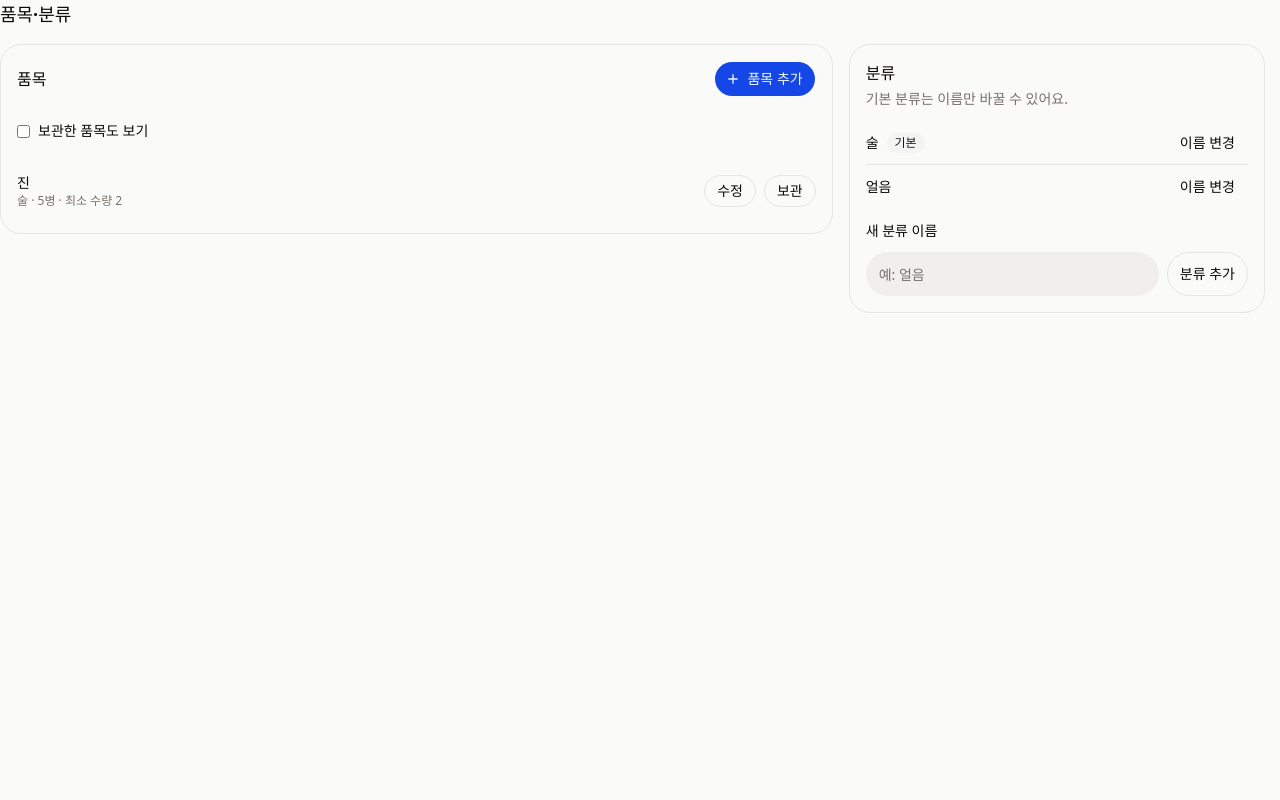
Test: ItemsManagementPage › opens the add item sheet
The image size is (1280, 800).
expect the text "진" is shown: met, box [17,173,30,193]
Click the button "품목 추가" at (765, 79), box [714,61,816,97]
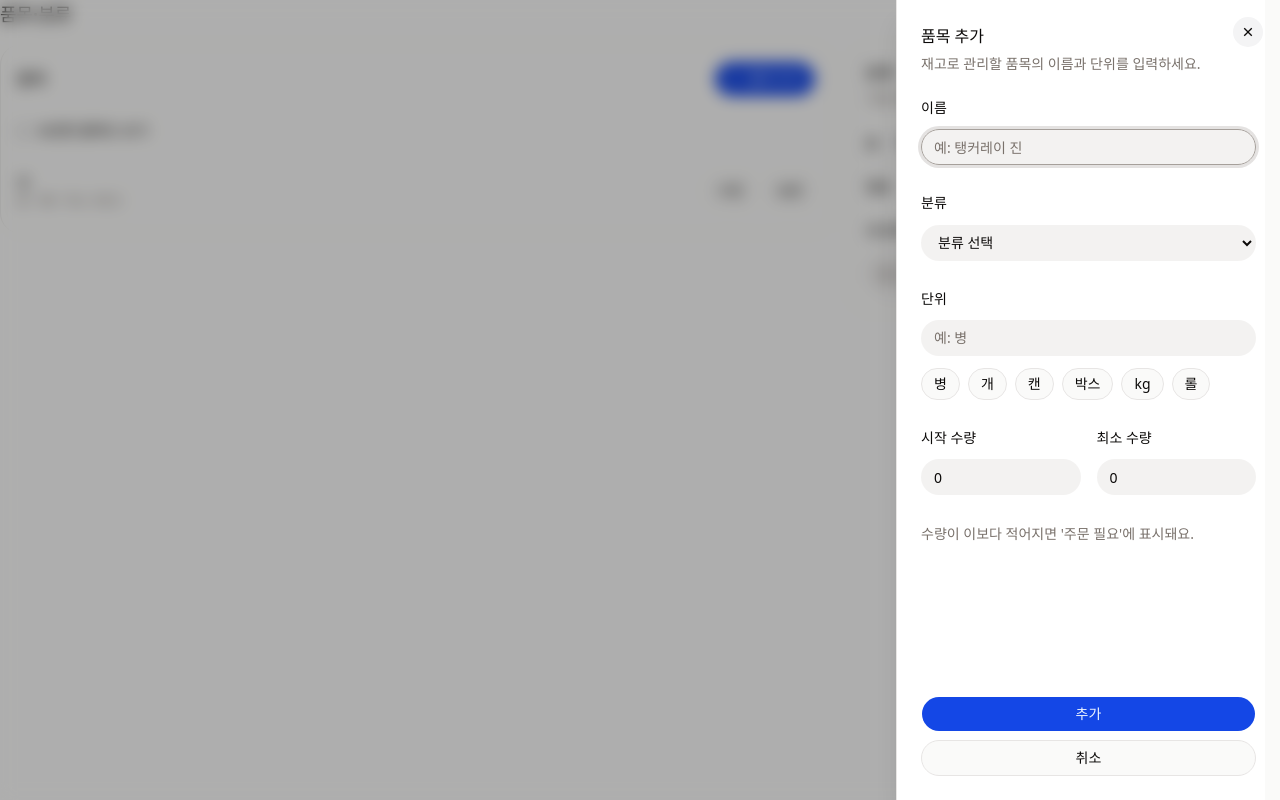
expect the dialog "품목 추가" is shown: met, box [896,0,1279,799]
